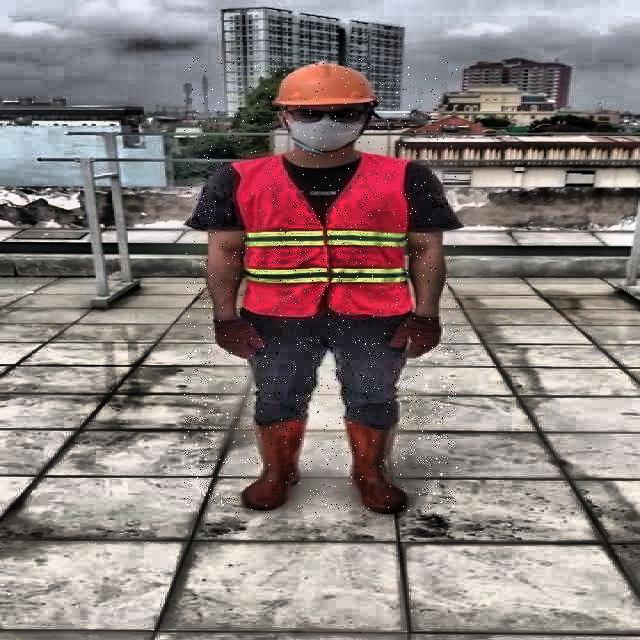safety_helmet: (268, 58, 381, 110)
safety_jacket: (233, 153, 411, 318)
